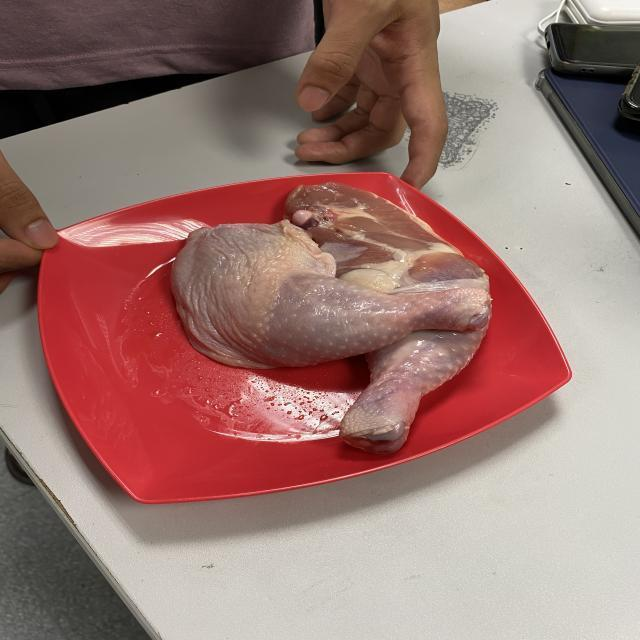quater: (296, 170, 478, 454), (190, 216, 484, 361)
